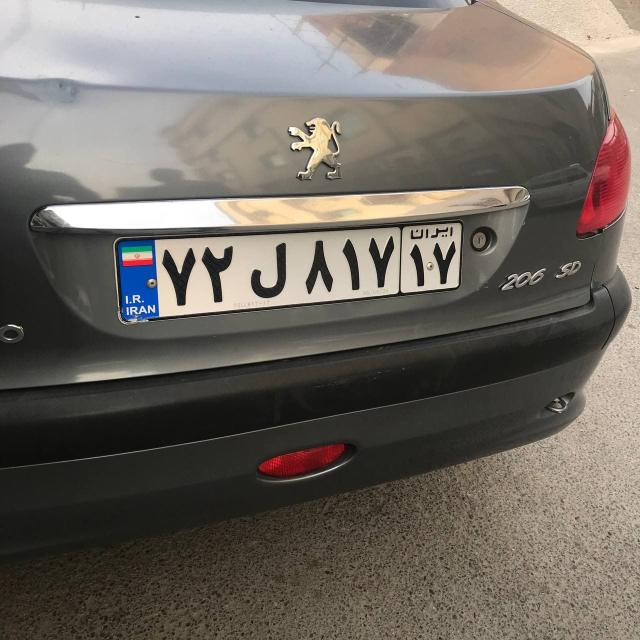Plates: (112, 203, 469, 324)
